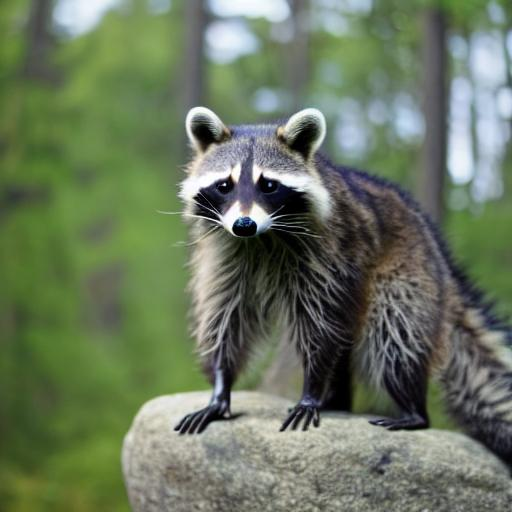raccoon: (168, 98, 512, 400)
